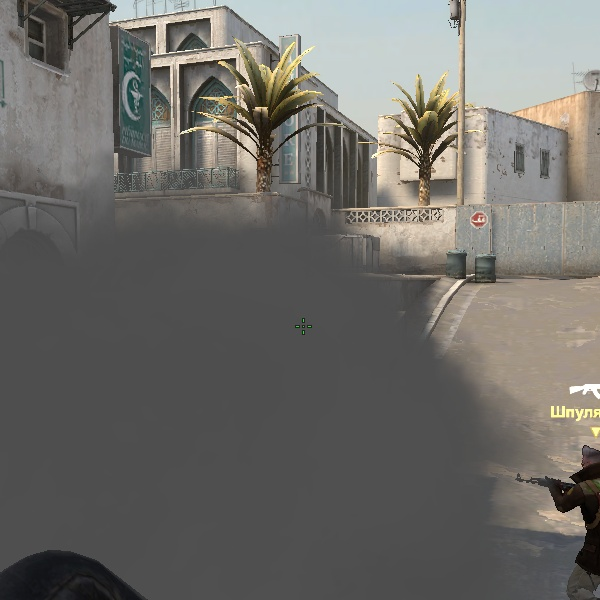t_body: (544, 440, 597, 598)
t_head: (569, 438, 600, 486)
